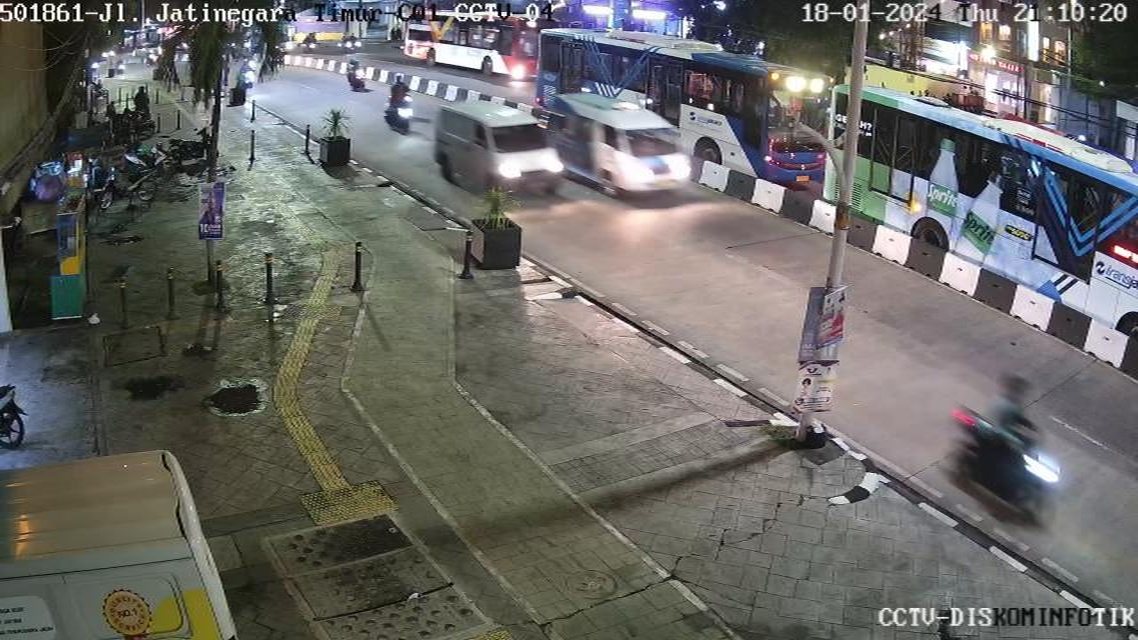Gerobak: (34, 191, 106, 345)
